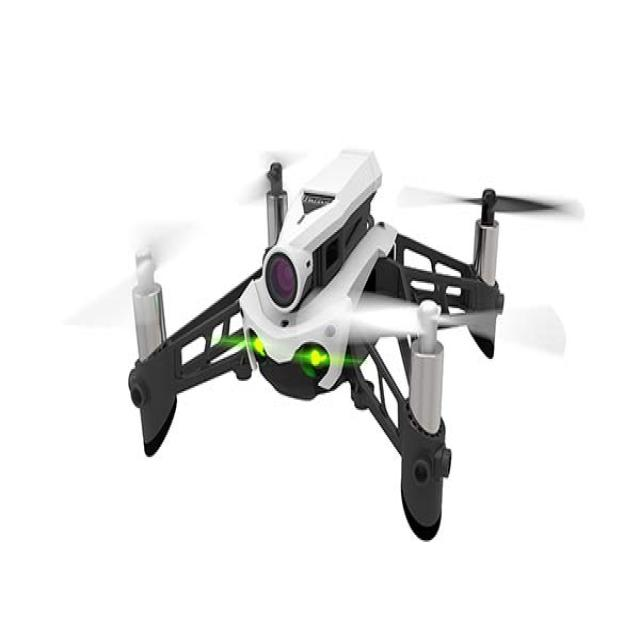drone: (95, 105, 554, 486)
